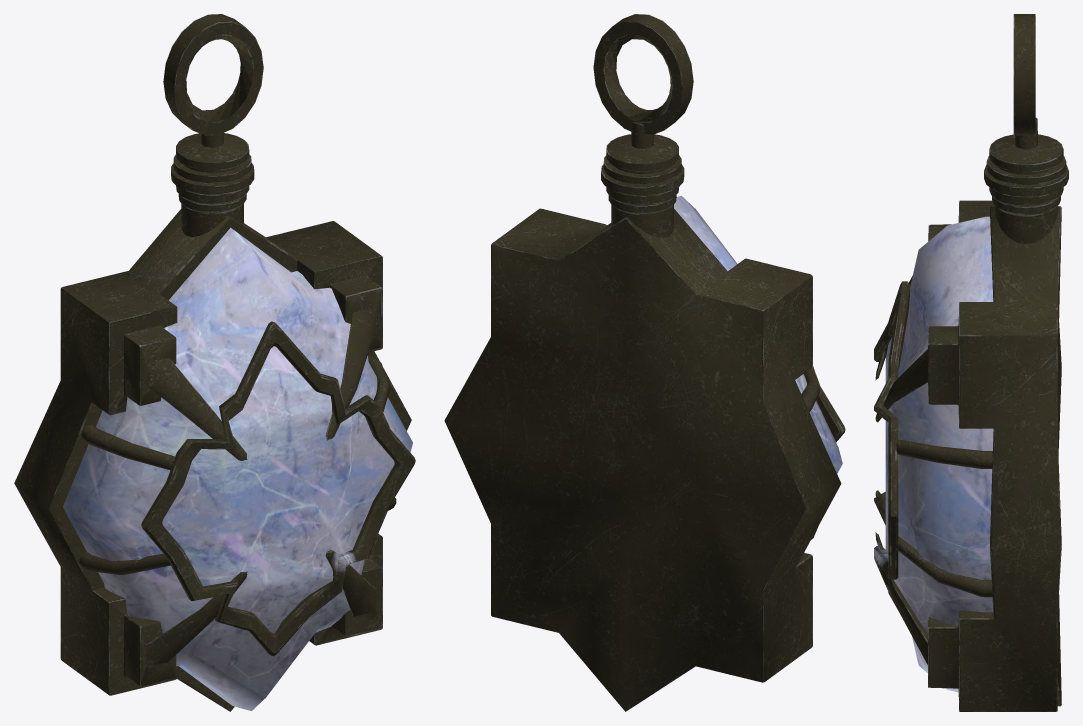
Rendered from pendant_lowPoly.glb.
3 renders of one model, left to right at view 1: azimuth 30°, elevation 25°; view 2: azimuth 150°, elevation 25°; view 3: azimuth 270°, elevation 25°, orthographic.
Visible parts, largest first — view 1: Mesh_0.004; view 2: Mesh_0.004; view 3: Mesh_0.004.
Part boxes in pixels (box(x1,y1,x2,y2)): Mesh_0.004: box(14, 14, 415, 711); Mesh_0.004: box(444, 14, 845, 711); Mesh_0.004: box(874, 14, 1068, 711).
Bounding box in the file's own units: 0.3621 × 0.6483 × 0.1662.
1 material, 1 textured.
